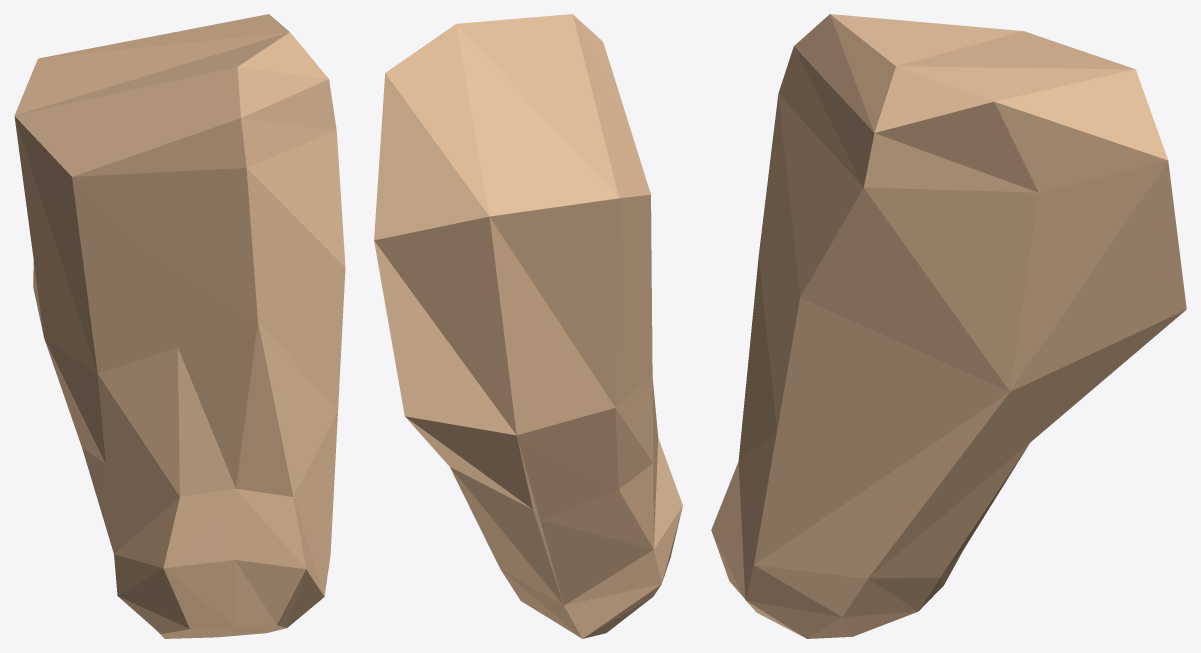
Rendered from RThumb0_mesh.dae.
3 renders of one model, left to right at view 1: azimuth 30°, elevation 25°; view 2: azimuth 150°, elevation 25°; view 3: azimuth 270°, elevation 25°, orthographic. The views are drawn at different scales.
Visible parts, largest first — view 1: RThumb0; view 2: RThumb0; view 3: RThumb0.
Boxes of the visible parts, left/top/right/bottom form: RThumb0: left=14, top=14, right=345, bottom=638; RThumb0: left=374, top=14, right=682, bottom=638; RThumb0: left=711, top=14, right=1186, bottom=638.
Bounding box in the file's own units: 0.0306 × 0.0677 × 0.0464.
